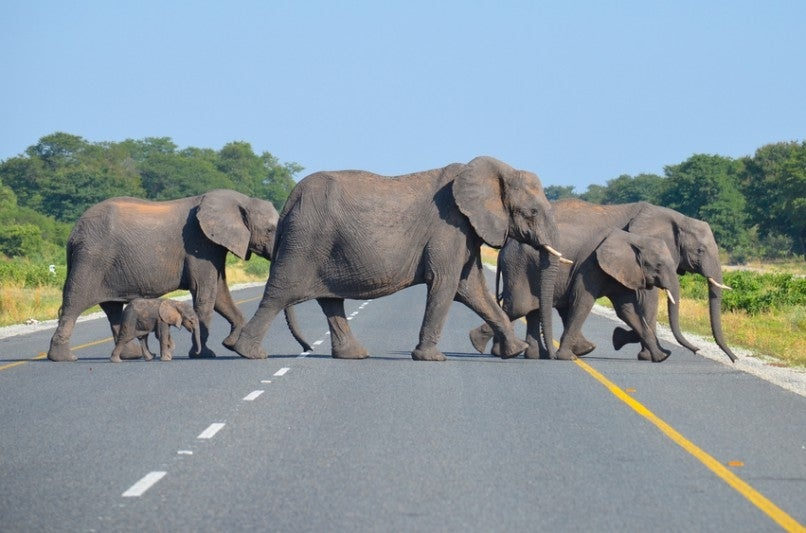elephant: (396, 255, 717, 456), (177, 274, 439, 440), (624, 284, 806, 451), (598, 297, 803, 436), (155, 327, 249, 388)
